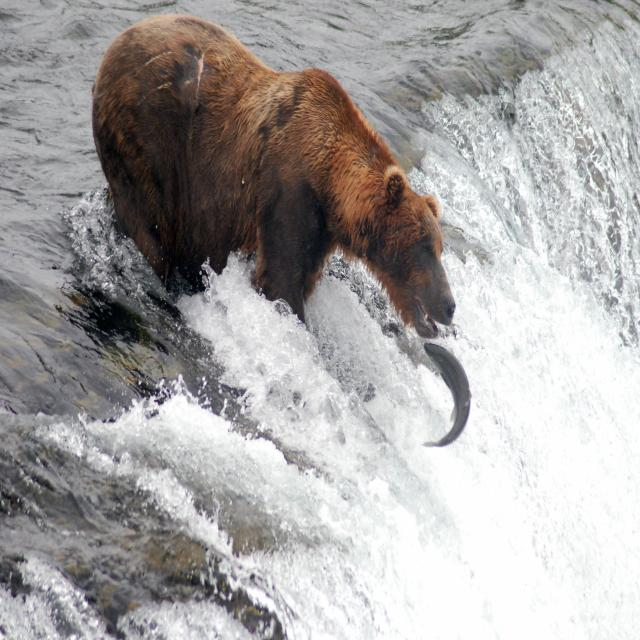Bear: (90, 14, 457, 342)
